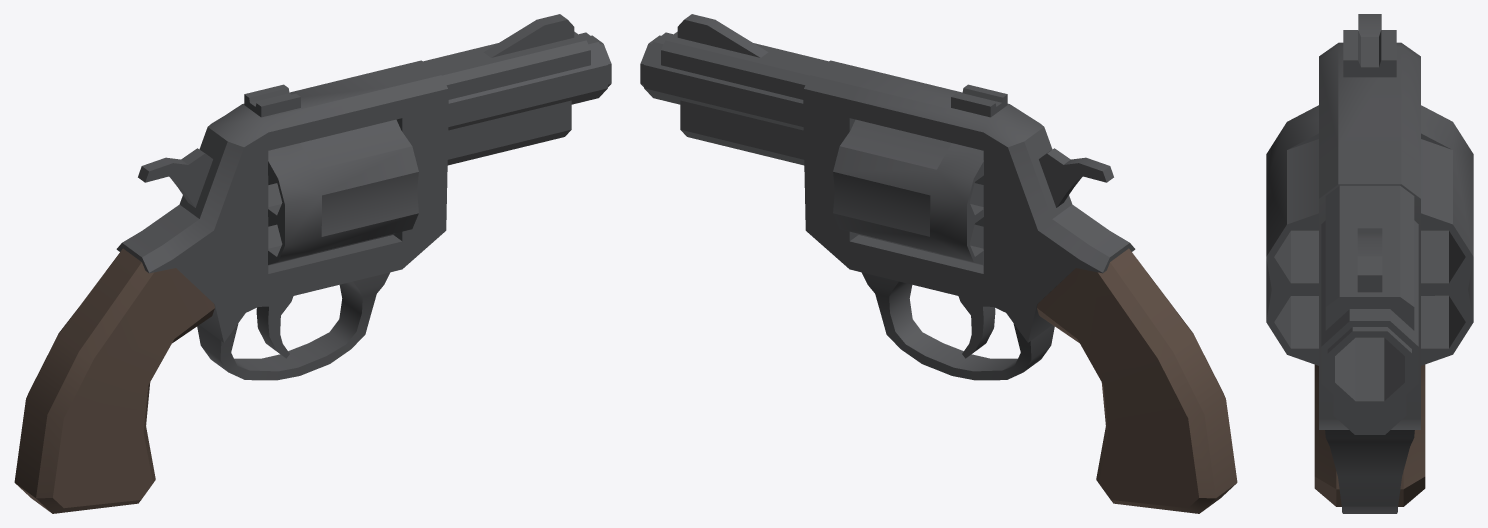
The model's file is Revolver_Short.fbx.
3 renders of one model, left to right at view 1: azimuth 30°, elevation 25°; view 2: azimuth 150°, elevation 25°; view 3: azimuth 270°, elevation 25°, orthographic. The views are drawn at different scales.
Parts seen in each view (by area): view 1: Revolver_Short; view 2: Revolver_Short; view 3: Revolver_Short.
Boxes of the visible parts, x1=… form: Revolver_Short: x1=14, y1=14, x2=611, y2=513; Revolver_Short: x1=640, y1=14, x2=1237, y2=513; Revolver_Short: x1=1266, y1=14, x2=1473, y2=513.
Bounding box in the file's own units: 147 × 91.51 × 29.44.
